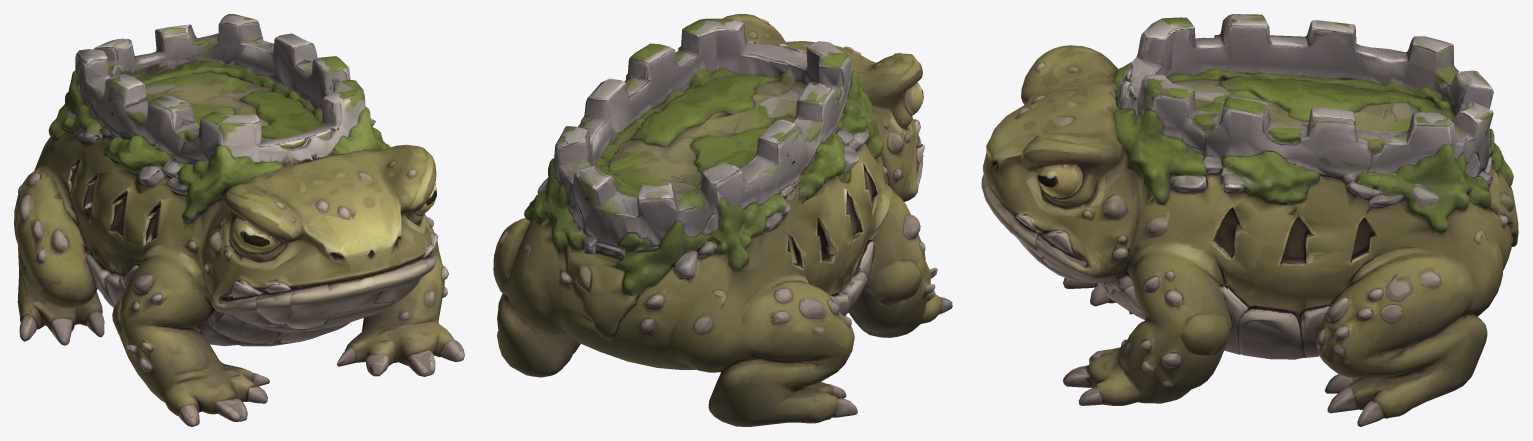
3 renders of one model, left to right at view 1: azimuth 30°, elevation 25°; view 2: azimuth 150°, elevation 25°; view 3: azimuth 270°, elevation 25°, orthographic. The views are drawn at different scales.
Visible parts, largest first — view 1: Mesh_0; view 2: Mesh_0; view 3: Mesh_0.
Part boxes in pixels (x1,y1,x2,y2): Mesh_0: (14,14,464,426); Mesh_0: (493,14,952,426); Mesh_0: (981,14,1518,426).
Size of the model in its own units: 1.54 by 1.1 by 1.9.
1 material, 1 textured.
